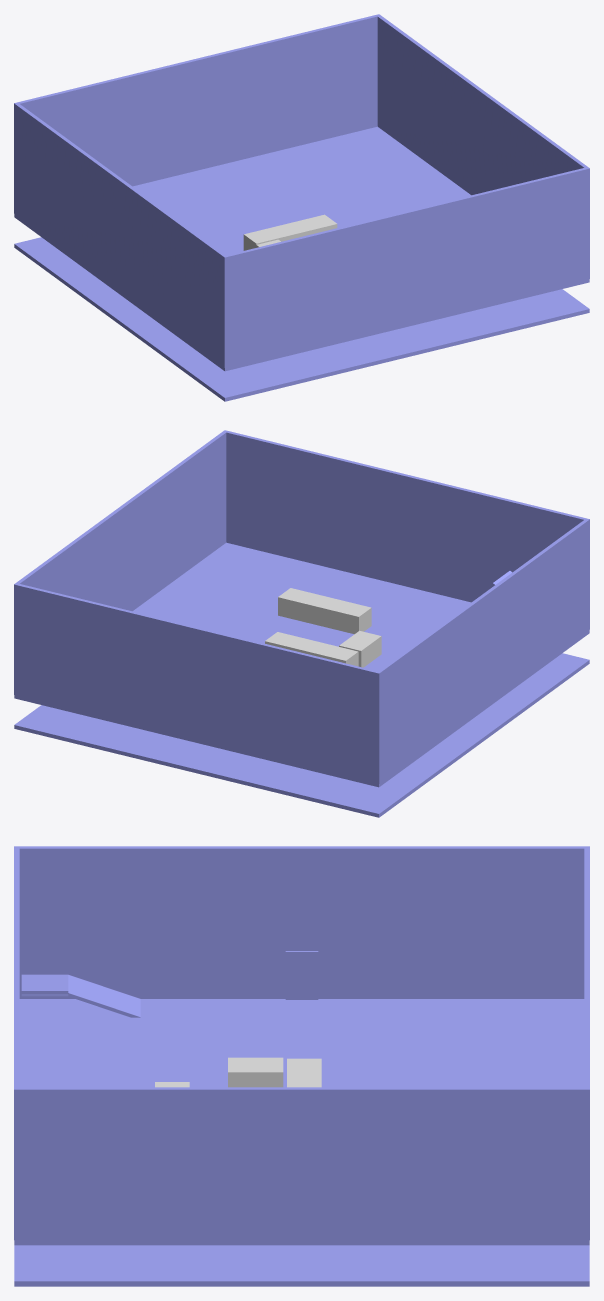
3 renders of one model, top to bottom at view 1: azimuth 30°, elevation 25°; view 2: azimuth 150°, elevation 25°; view 3: azimuth 270°, elevation 25°, orthographic. The views are drawn at different scales.
Parts seen in each view (by area): view 1: Cube.002, Cube.001, Cube.003, Cube, Cube.004, Cube.005, Cube.009; view 2: Cube.001, Cube.002, Cube.003, Cube, Cube.004, Cube.005, Cube.007, Cube.009, Cube.006; view 3: Cube.004, Cube.003, Cube, Cube.005, Cube.008, Cube.006, door_01, Cube.002, Cube.001, Cube.009.
Part boxes in pixels (x1,y1,x2,y2): Cube.002: (223,167,589,367); Cube.001: (14,15,377,186); Cube.003: (14,102,227,367); Cube: (14,126,589,371); Cube.004: (376,14,589,195); Cube.005: (14,237,589,401); Cube.009: (243,214,337,250); Cube.001: (14,584,380,783); Cube.002: (223,431,589,602); Cube.003: (376,519,589,783); Cube: (14,542,589,787); Cube.004: (14,430,227,611); Cube.005: (14,653,589,817); Cube.007: (278,588,371,634); Cube.009: (265,632,358,666); Cube.006: (339,630,381,667); Cube.004: (14,1087,589,1240); Cube.003: (19,846,589,998); Cube: (14,999,589,1245); Cube.005: (14,1245,589,1286); Cube.008: (21,974,140,1017); Cube.006: (228,1057,283,1087); door_01: (285,951,318,999); Cube.002: (14,846,19,1239); Cube.001: (584,846,589,1239); Cube.009: (287,1058,321,1087).
Bounding box in the file's own units: 82.99 × 31.34 × 82.99.
